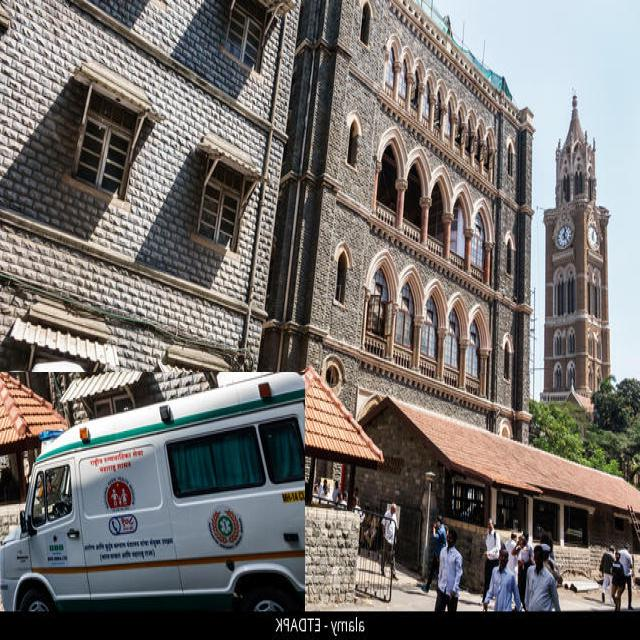emergency: (0, 372, 305, 614)
